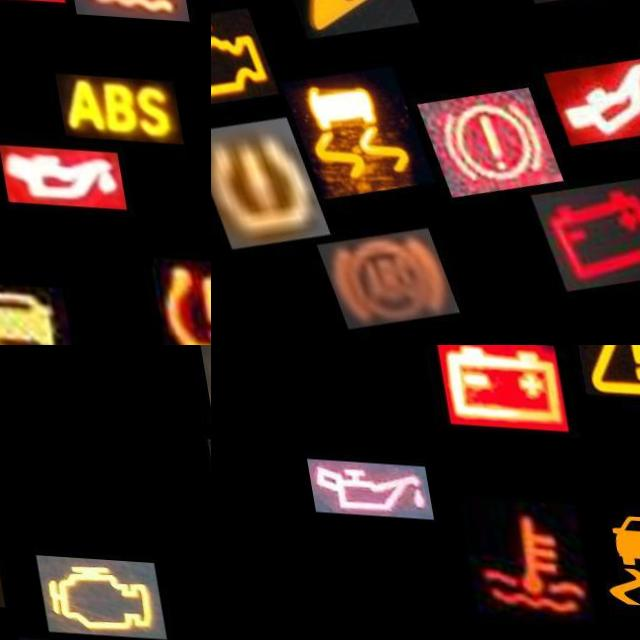Central Warning lamp: (256, 0, 415, 41), (564, 345, 640, 393)
Engine cooling system: (447, 493, 581, 617)
